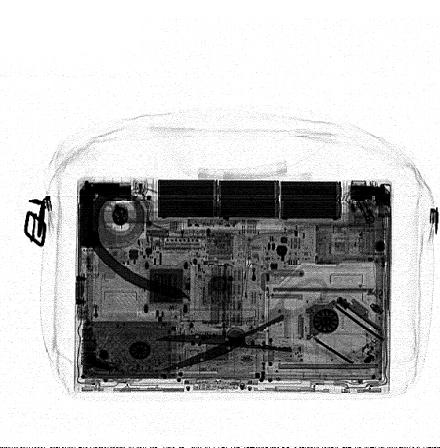Scissors: (149, 272, 339, 375)
